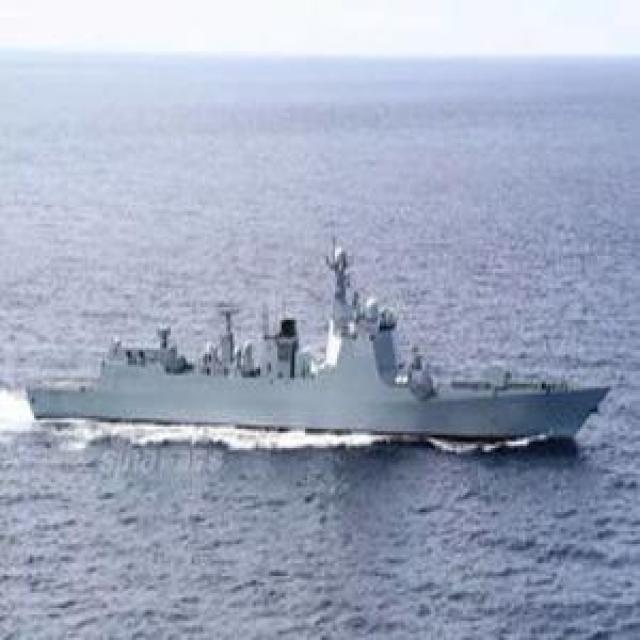navalvessels: (27, 232, 611, 440)
